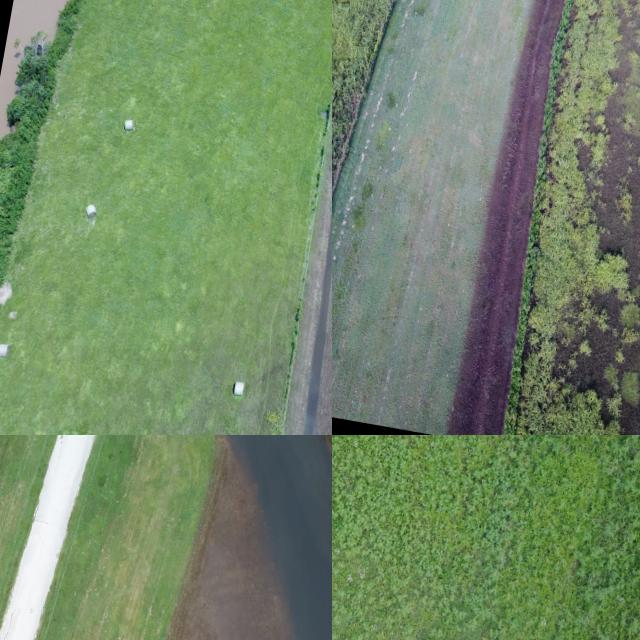fire: (229, 435, 332, 640), (0, 0, 65, 137)
